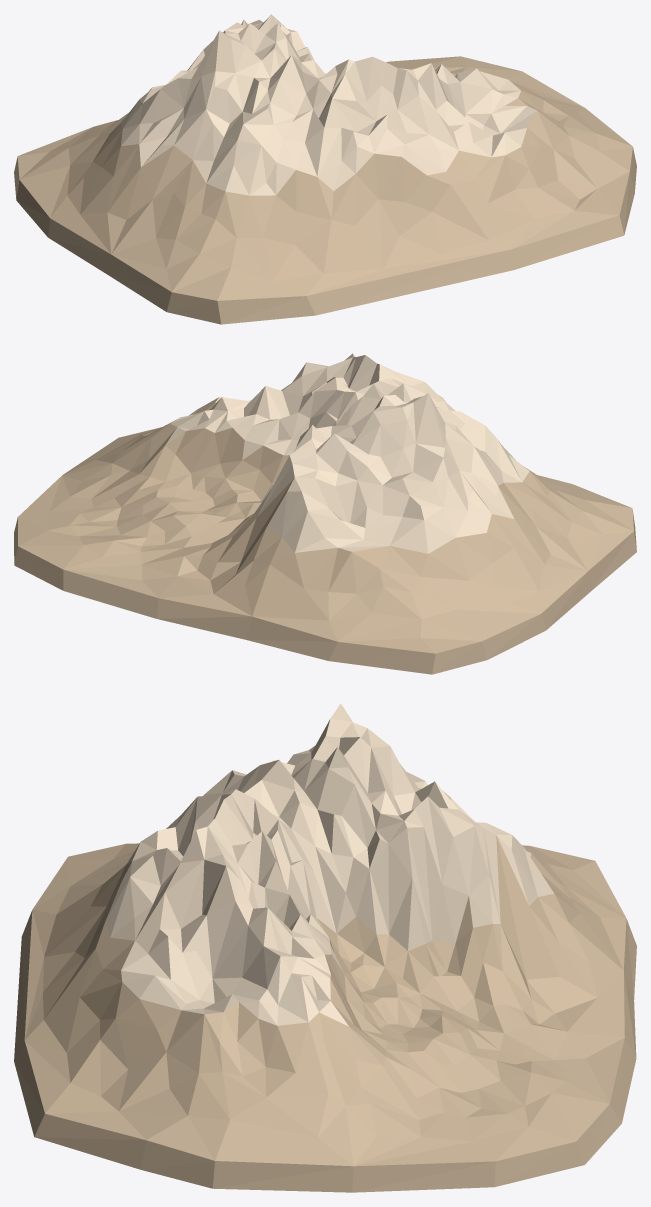
The model's file is mountain_6.fbx.
The picture shows the model from 3 angles, top to bottom: view 1: azimuth 30°, elevation 25°; view 2: azimuth 150°, elevation 25°; view 3: azimuth 270°, elevation 25°; orthographic projection. The views are drawn at different scales.
Parts seen in each view (by area): view 1: mountain_6; view 2: mountain_6; view 3: mountain_6.
Part boxes in pixels (<box>): mountain_6: <box>14,14,636,324</box>; mountain_6: <box>14,353,636,674</box>; mountain_6: <box>14,703,636,1192</box>.
Bounding box in the file's own units: 4175 × 1454 × 3295.
